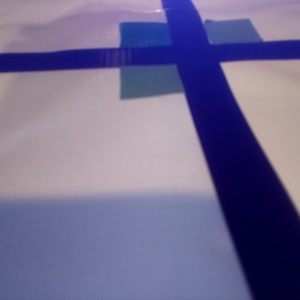bottom_left: (120, 47, 218, 99)
top_left: (119, 21, 202, 63)
top_right: (174, 18, 265, 58)
